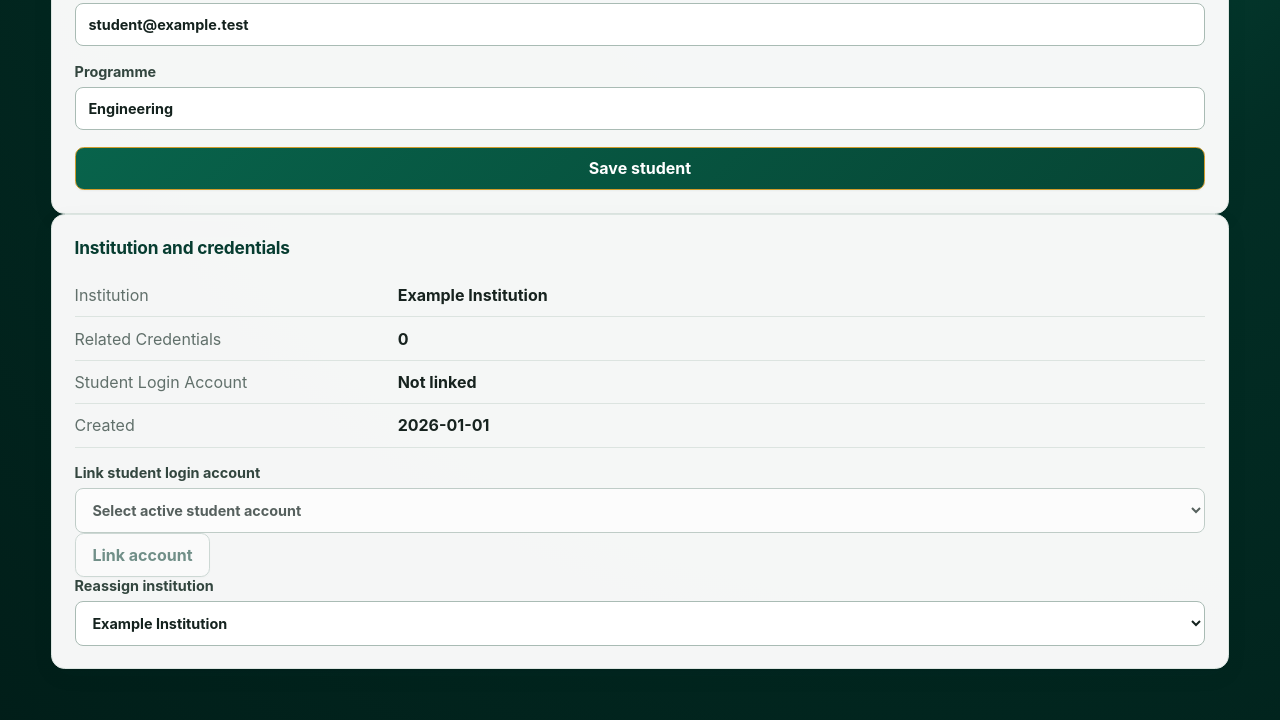
student management › shows controlled backend conflict messages
The image size is (1280, 720).
(page scrolled)
Select "Second Institution" in the dropdown labelled "Reassign institution" at (640, 623), box [75,601,1205,646]
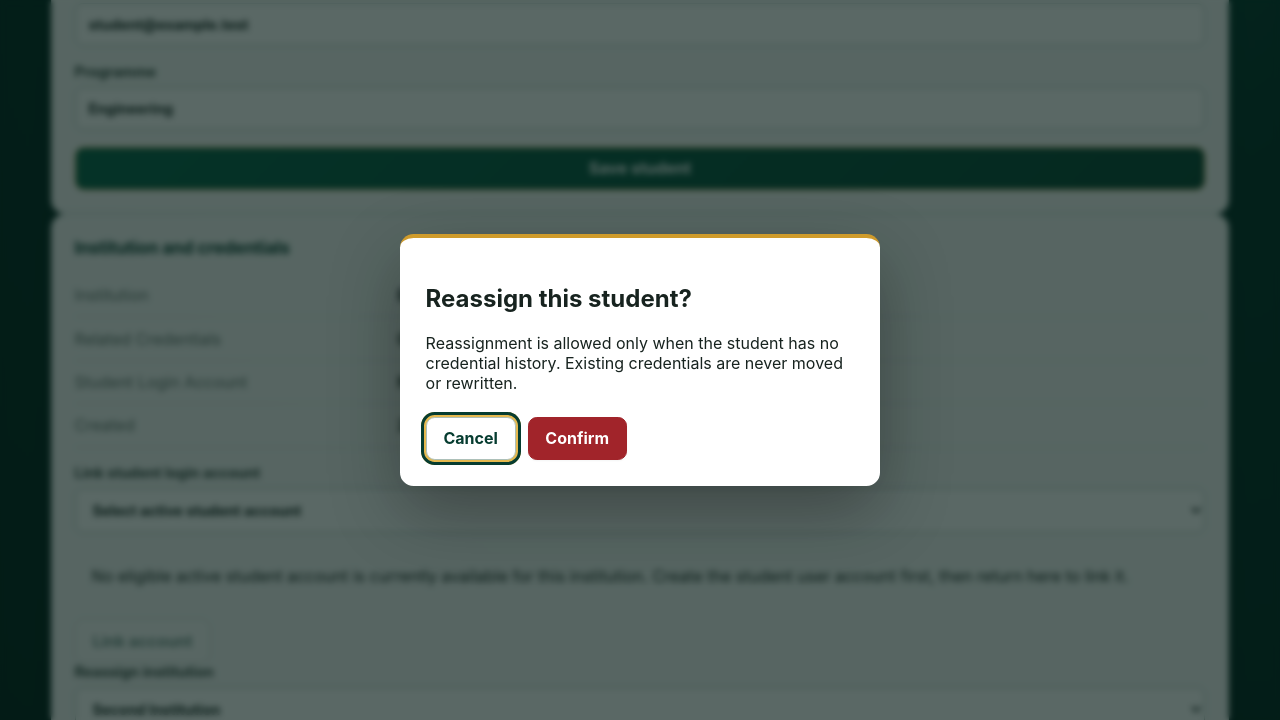
Click the button "Confirm".
click(577, 438)  # box [528,416,627,460]
(page scrolled)
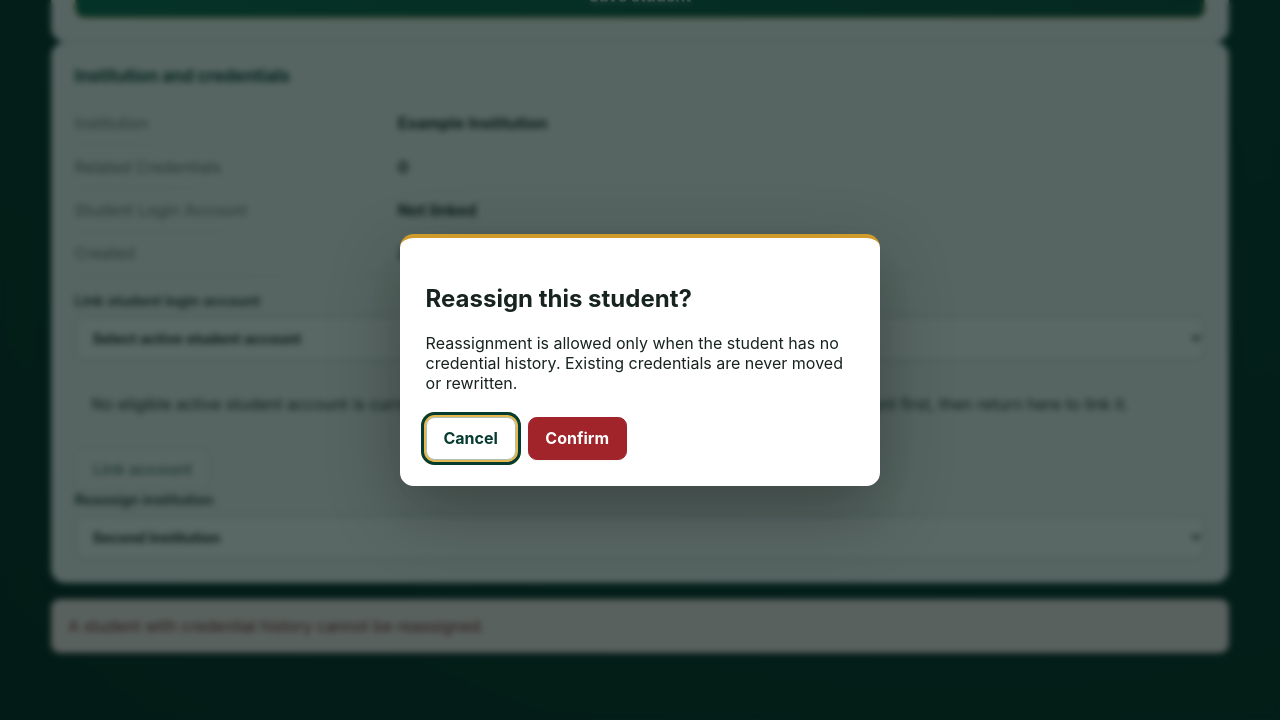
Check: the message shows "credential history", box [68,616,485,636]
